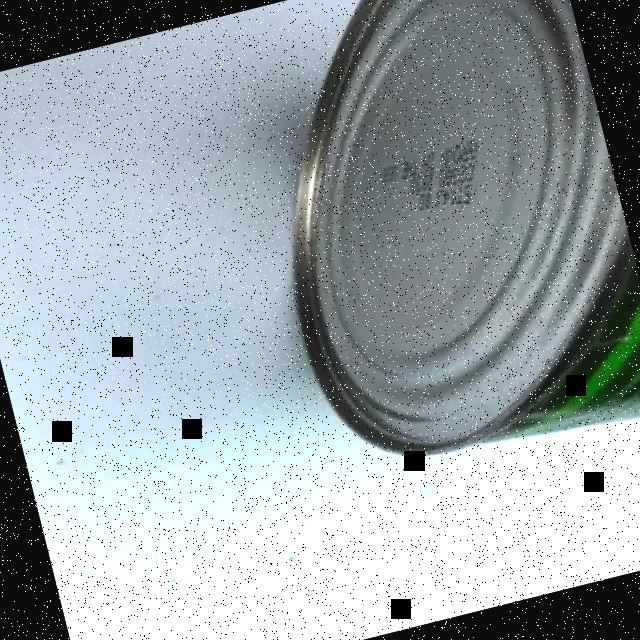can: (210, 0, 640, 505)
